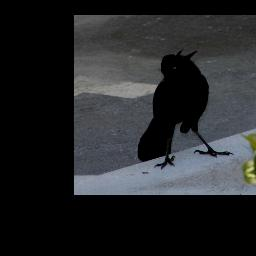Crow: (120, 43, 235, 172)
